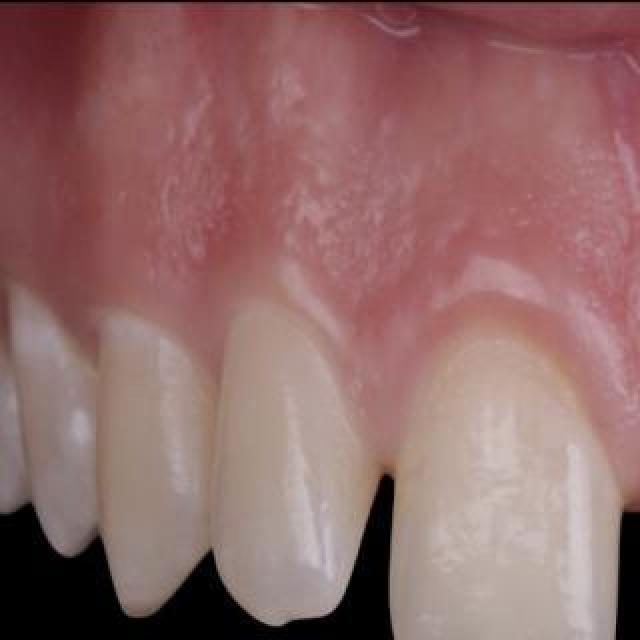spacing: (314, 434, 402, 640), (578, 476, 640, 640)
